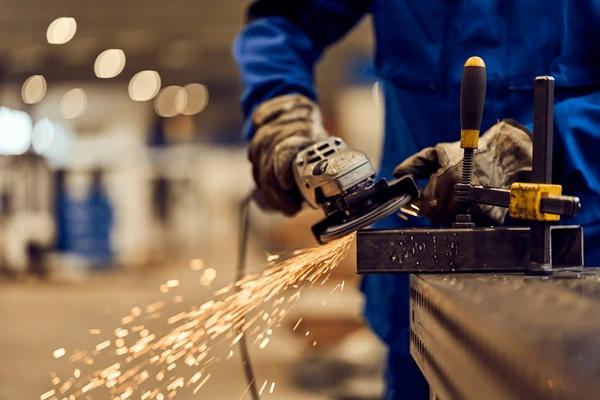controlled_fire: (48, 222, 367, 394)
